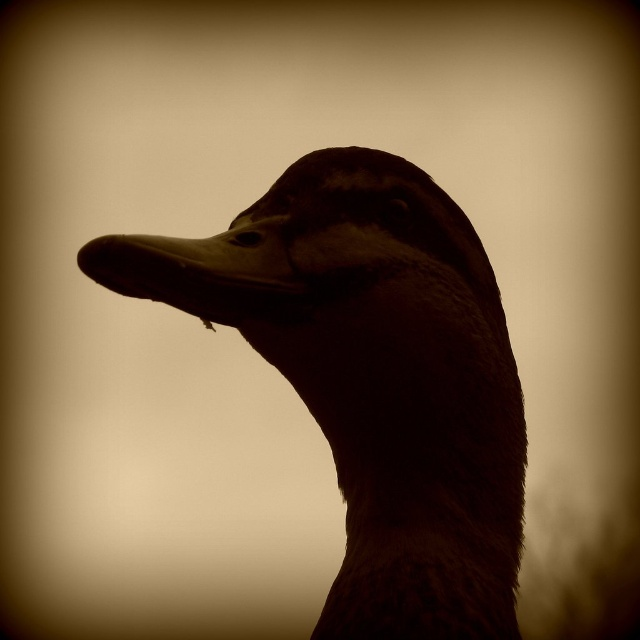Duck: (78, 158, 552, 628)
